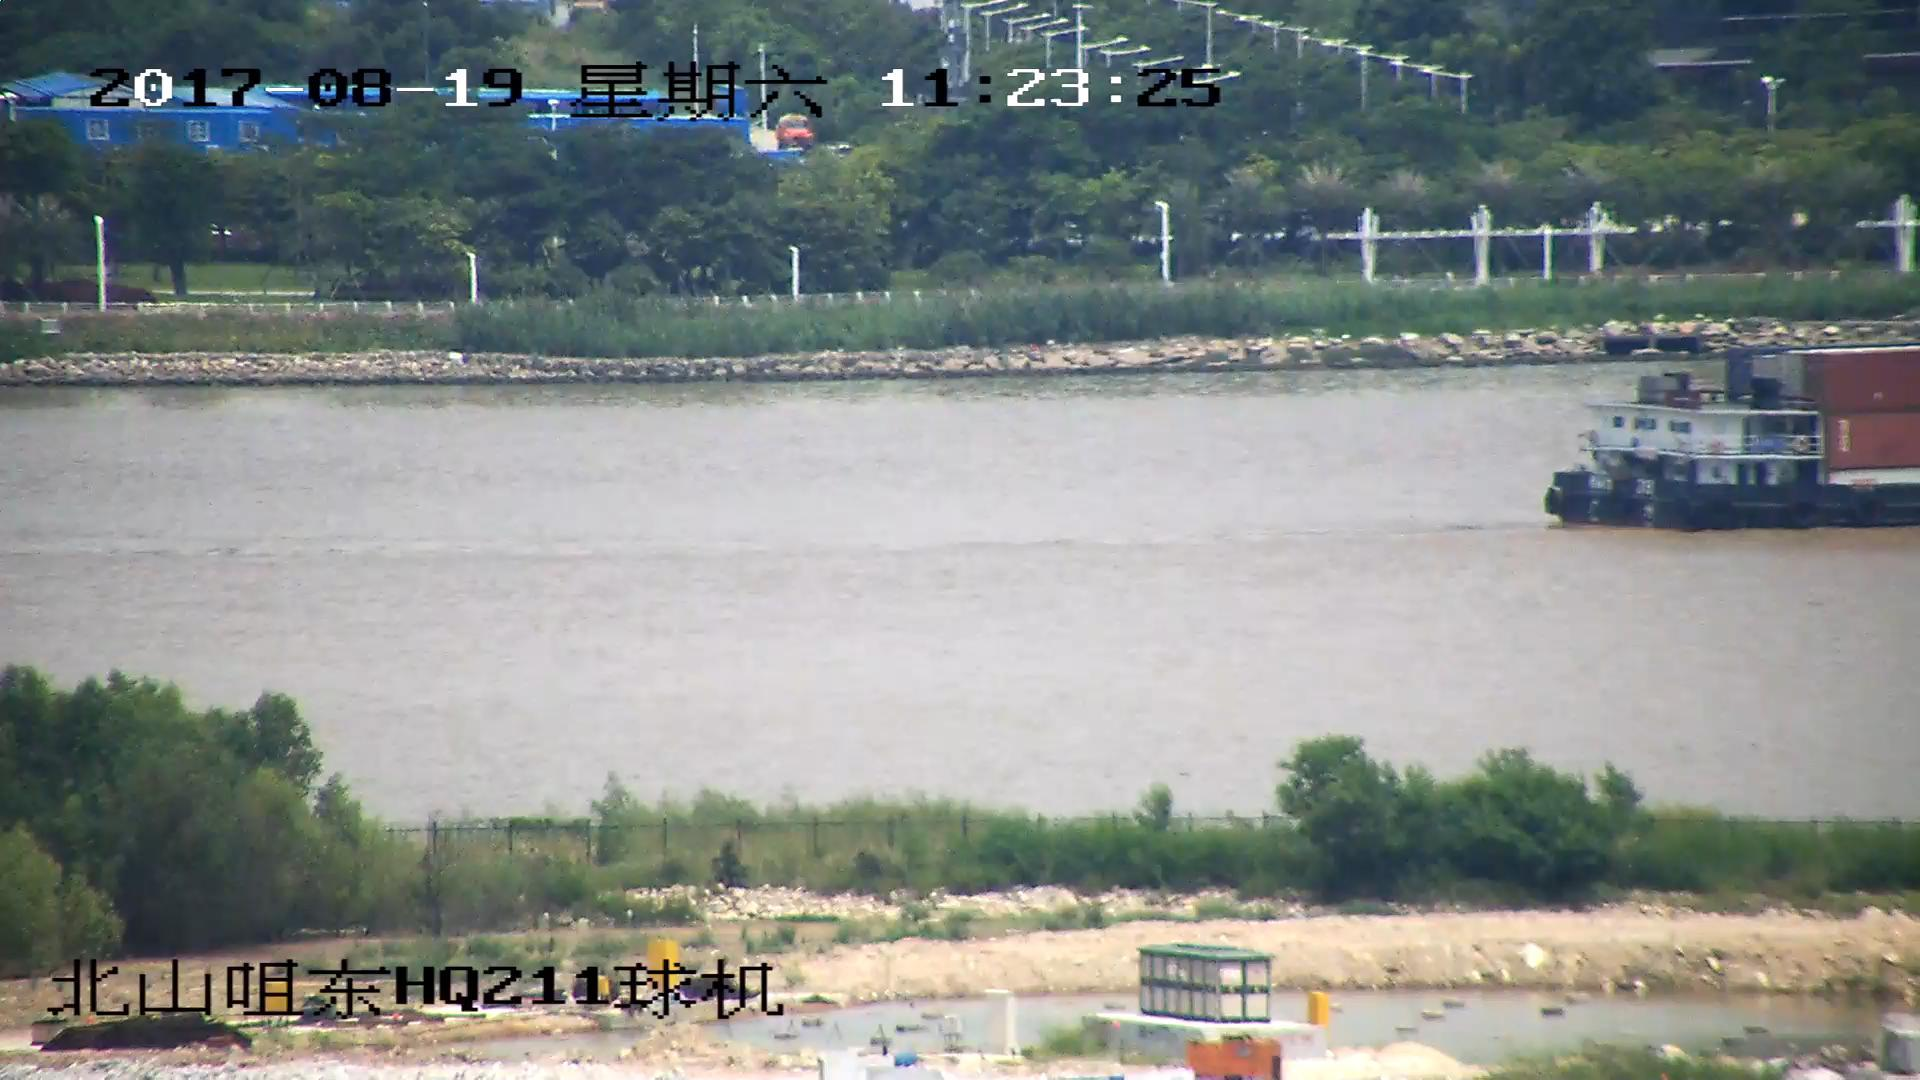Ship: (1528, 345, 1920, 531)
